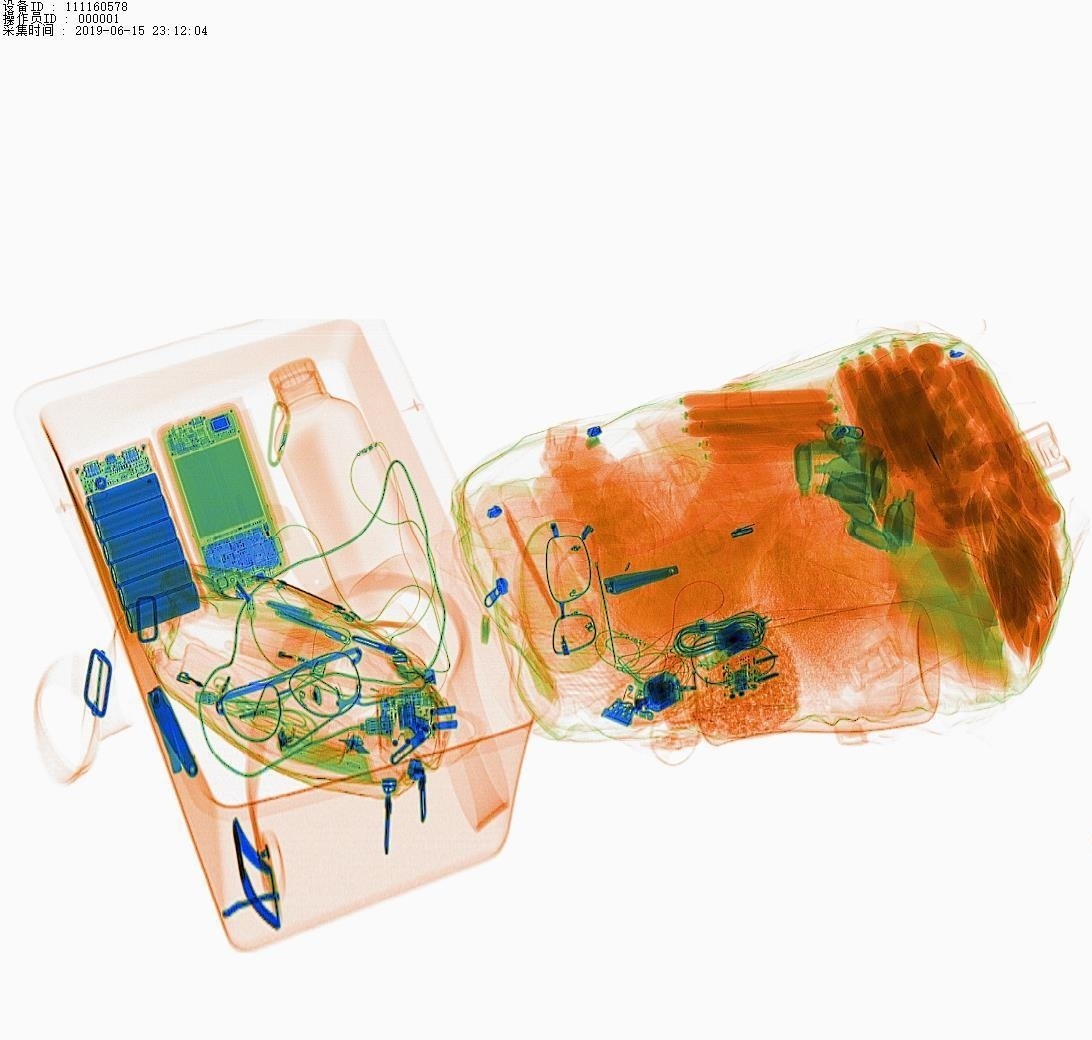NonmetallicFire: (219, 628, 349, 696)
